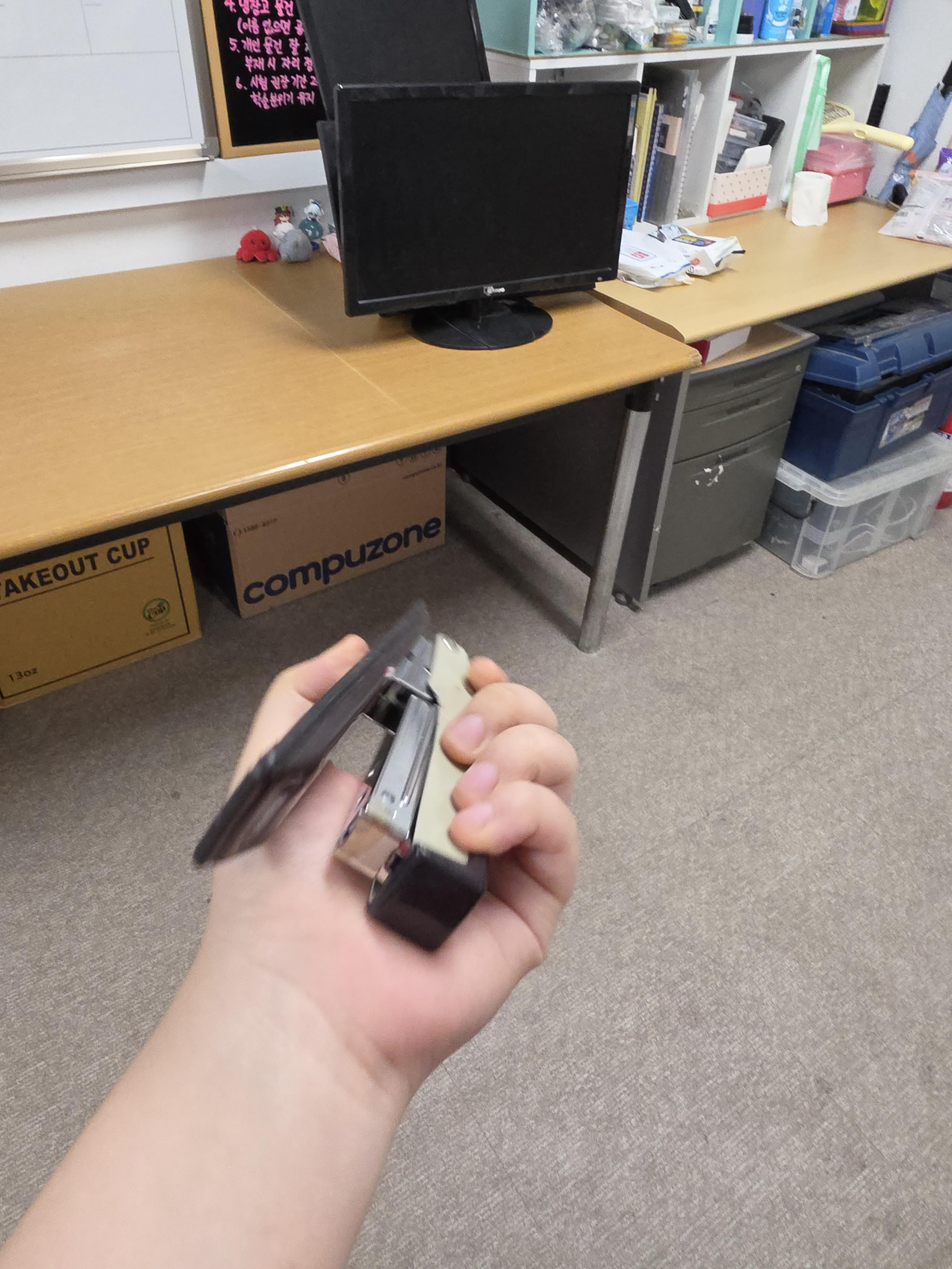stapler: (192, 600, 487, 952)
tissue: (703, 143, 773, 220), (785, 171, 833, 227)
